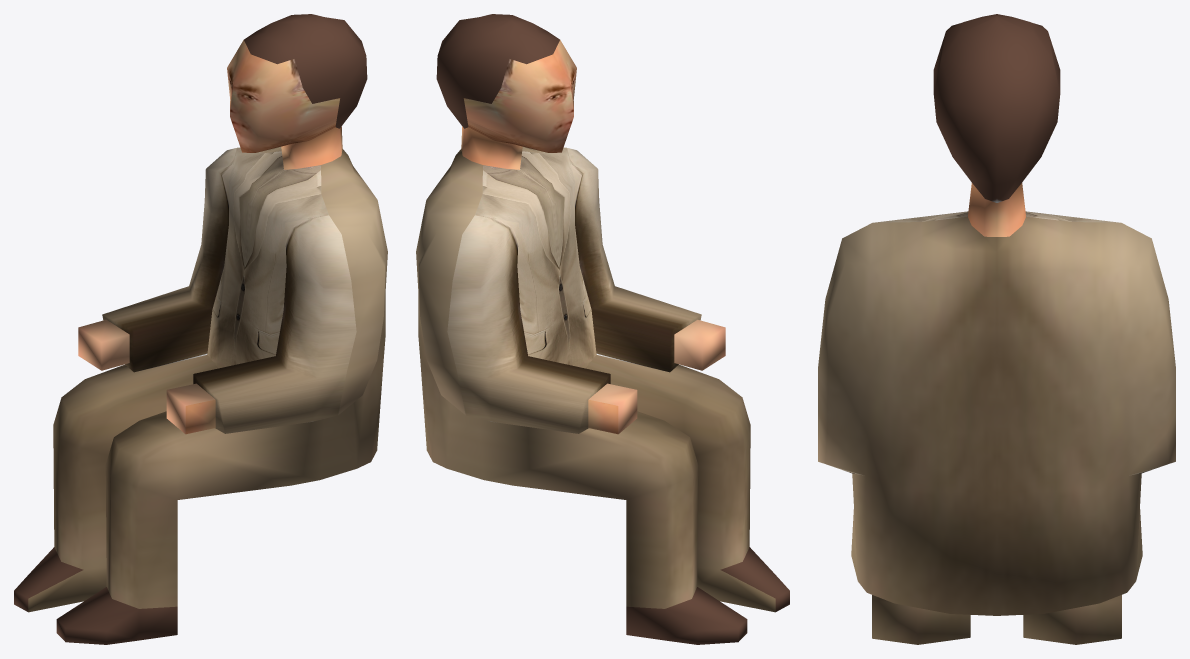
File: ForestGump.FBX
3 views of the same model, side by side, from view 1: azimuth 30°, elevation 25°; view 2: azimuth 150°, elevation 25°; view 3: azimuth 270°, elevation 25° (orthographic). The views are drawn at different scales.
Parts seen in each view (by area): view 1: Forest; view 2: Forest; view 3: Forest.
Boxes of the visible parts, x1,y1,x2,y2 form: Forest: (14, 14, 387, 644); Forest: (416, 14, 789, 644); Forest: (818, 14, 1175, 644).
Bounding box in the file's own units: 21.85 × 34.77 × 15.47.
